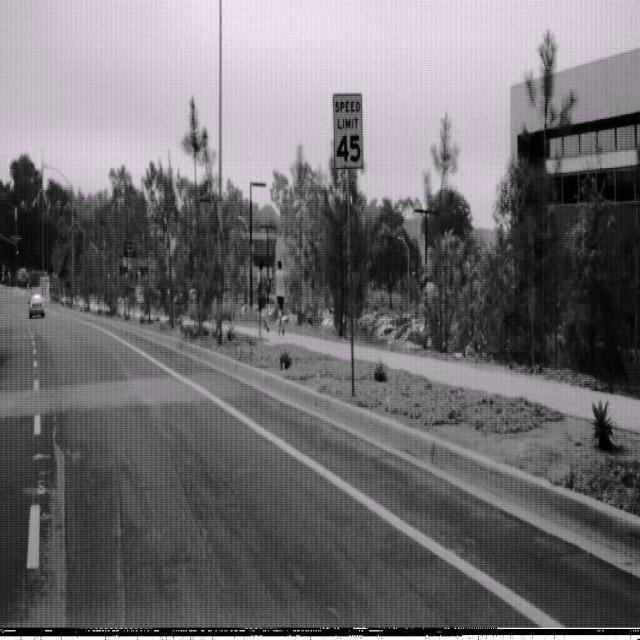speedLimit45: (332, 91, 364, 170)
